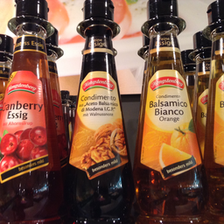vinegar: (133, 1, 206, 224), (65, 1, 136, 224), (2, 1, 63, 224)
